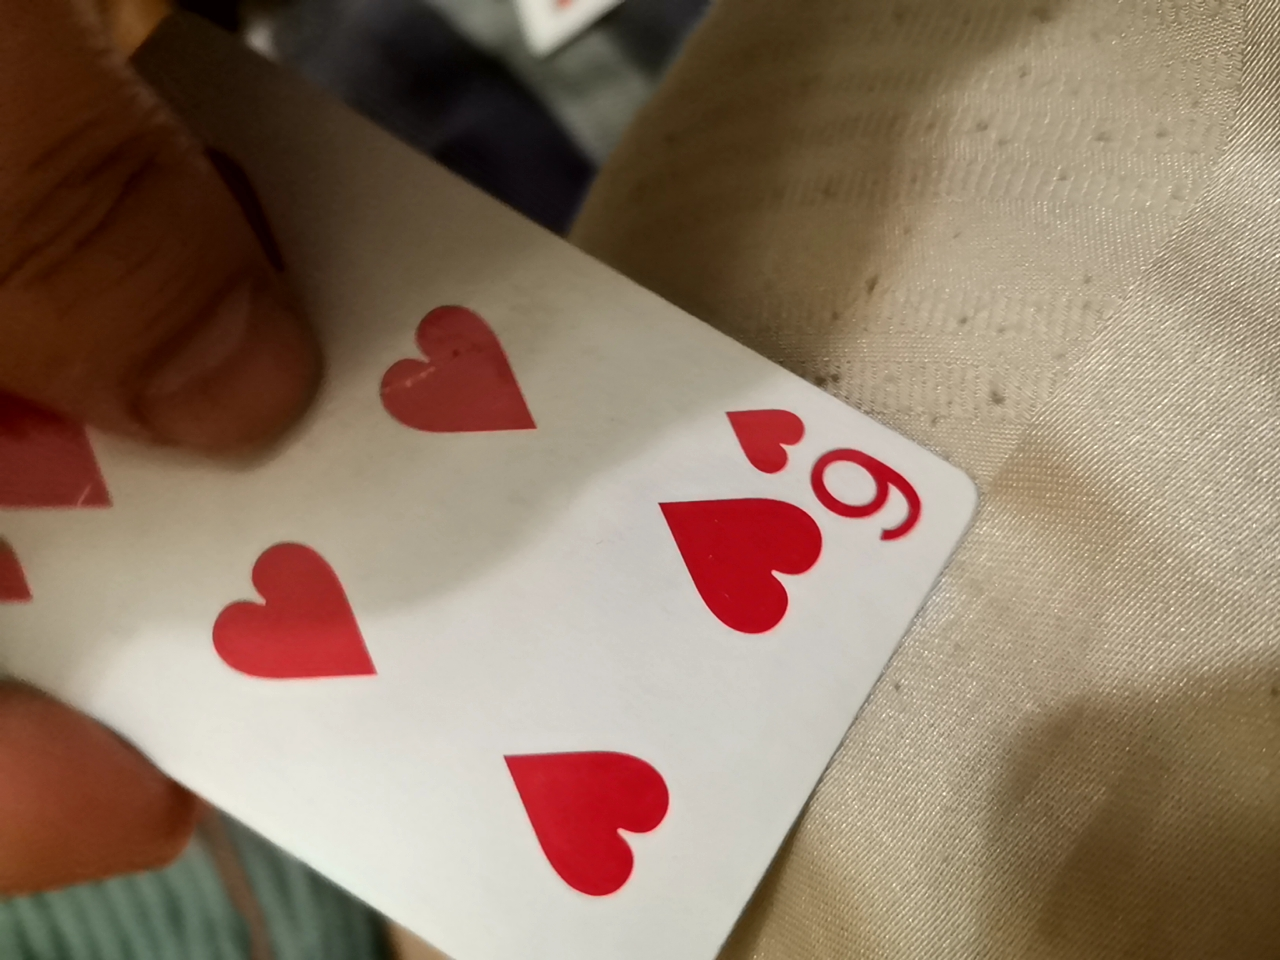hx 6: (0, 84, 988, 957)
